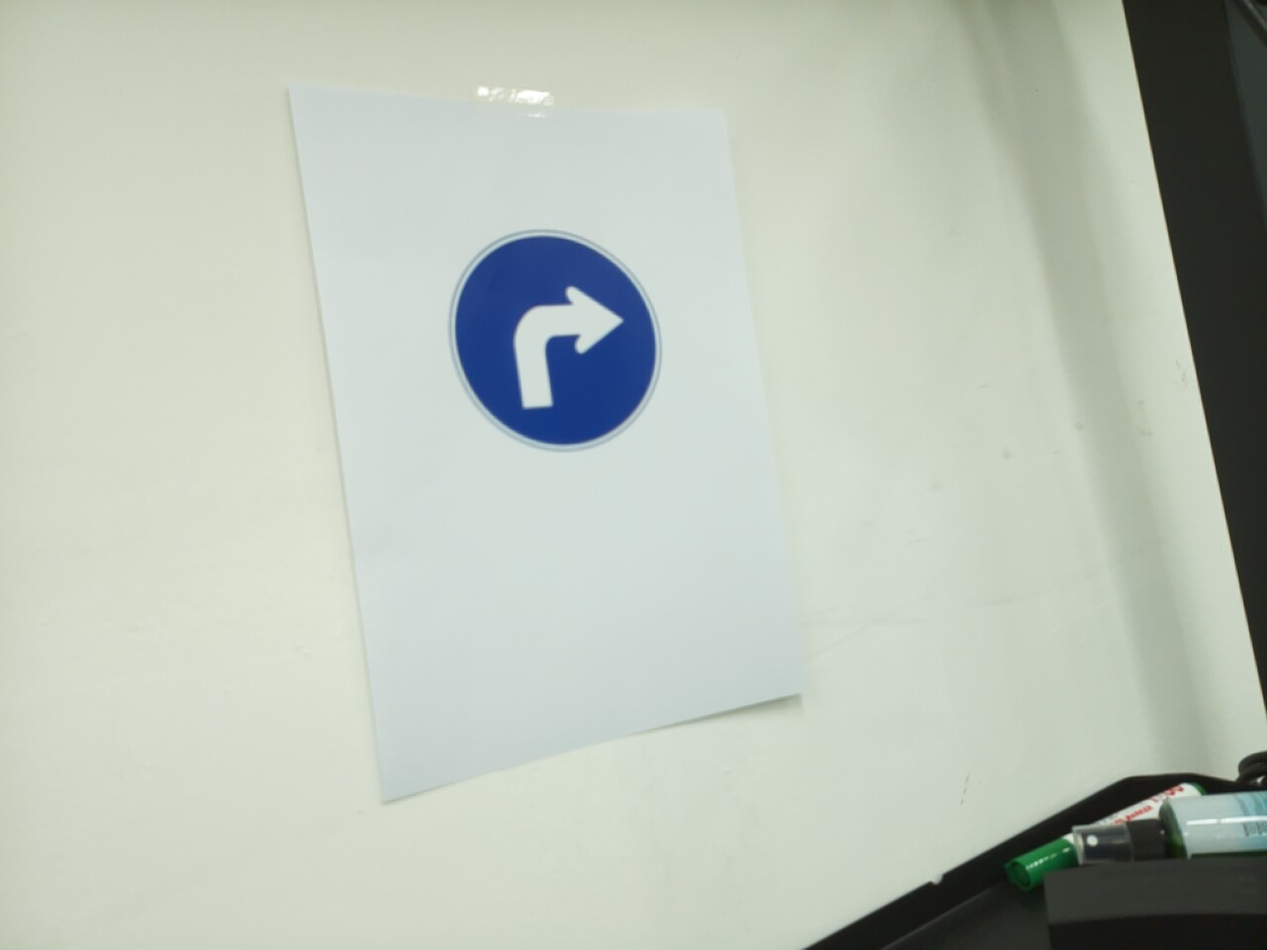right_turn: (447, 228, 664, 453)
